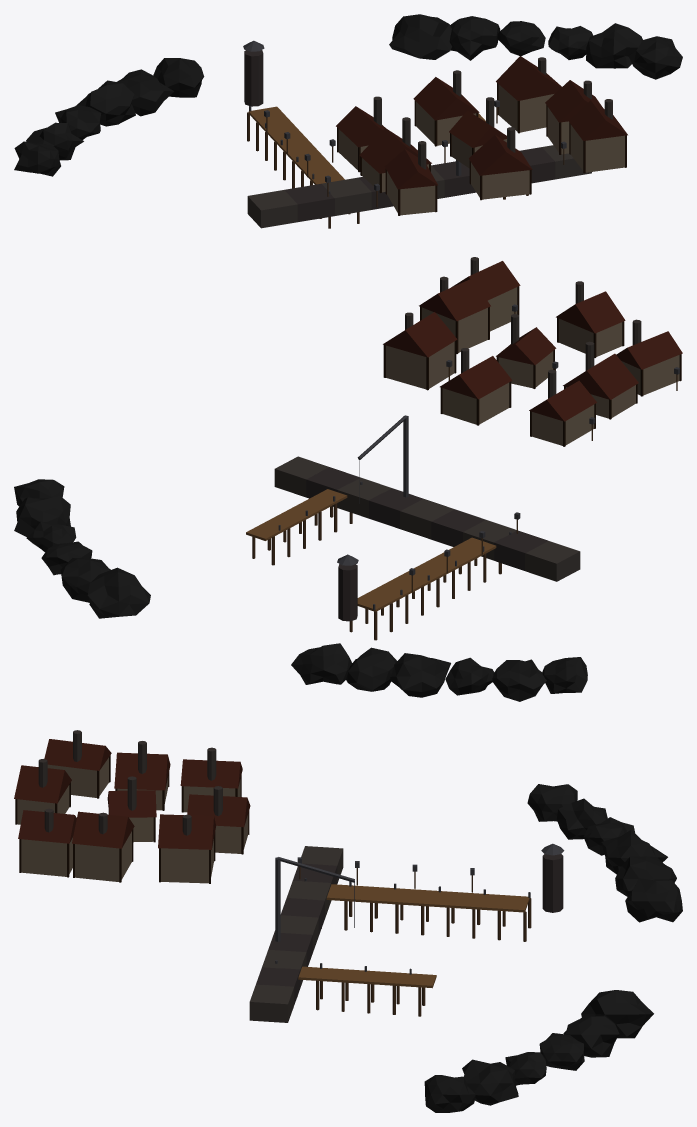
The model's file is ash_harbour.glb.
The picture shows the model from 3 angles, top to bottom: view 1: azimuth 30°, elevation 25°; view 2: azimuth 150°, elevation 25°; view 3: azimuth 270°, elevation 25°; orthographic projection. The views are drawn at different scales.
Parts seen in each view (by area): view 1: geometry_0; view 2: geometry_0; view 3: geometry_0.
Part boxes in pixels (<box>): geometry_0: <box>14,14,682,228</box>; geometry_0: <box>14,257,682,701</box>; geometry_0: <box>14,730,682,1112</box>.
Size of the model in its own units: 114 by 31.49 by 104.
